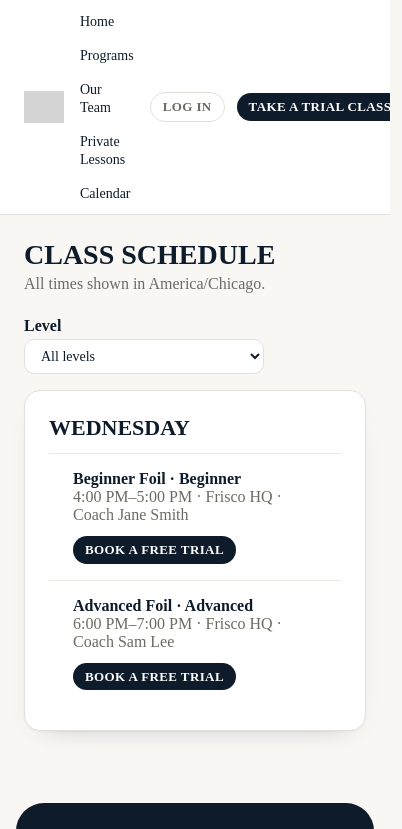
Test: ClassesPage › level filter (source-of-truth audit finding B4) › filters the list by level via the <select>, driving the same state as the pill row
The width and height of the screenshot is (402, 829).
Expected: the text "Beginner Foil · Beginner" is shown, [73,470,241,487]
Expected: the text "Advanced Foil · Advanced" is shown, [73,597,253,614]
Select "Beginner" in the dropdown labelled "Level" at (144, 356), box [24,339,264,374]
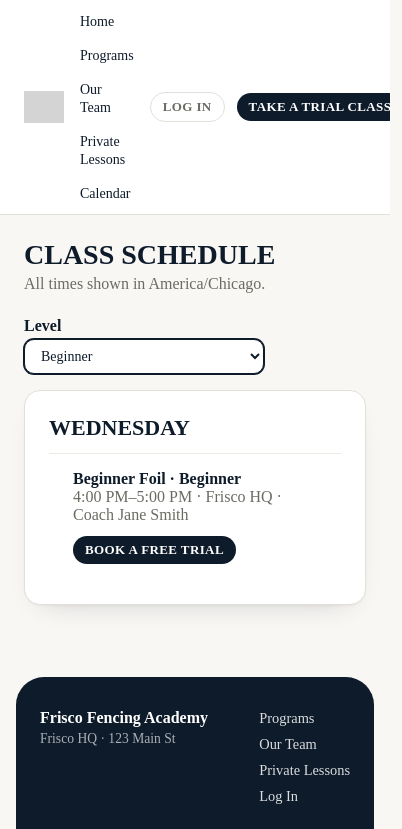
Expected: the text "Beginner Foil · Beginner" is shown, [73,470,241,487]
Now the text "Advanced Foil · Advanced" is gone
